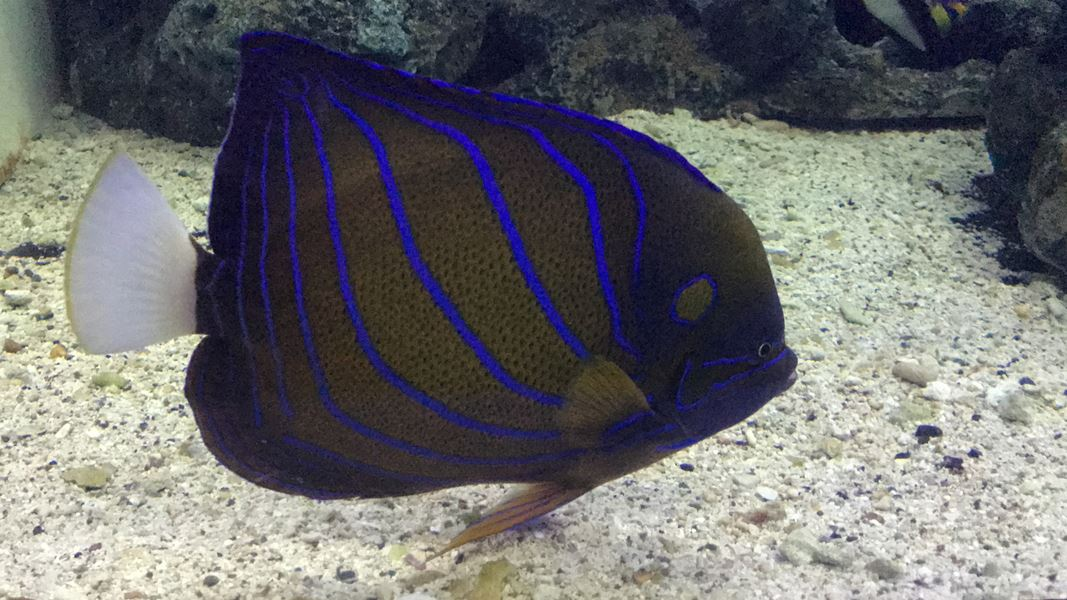Blue ring angelfish: (54, 24, 804, 581)
